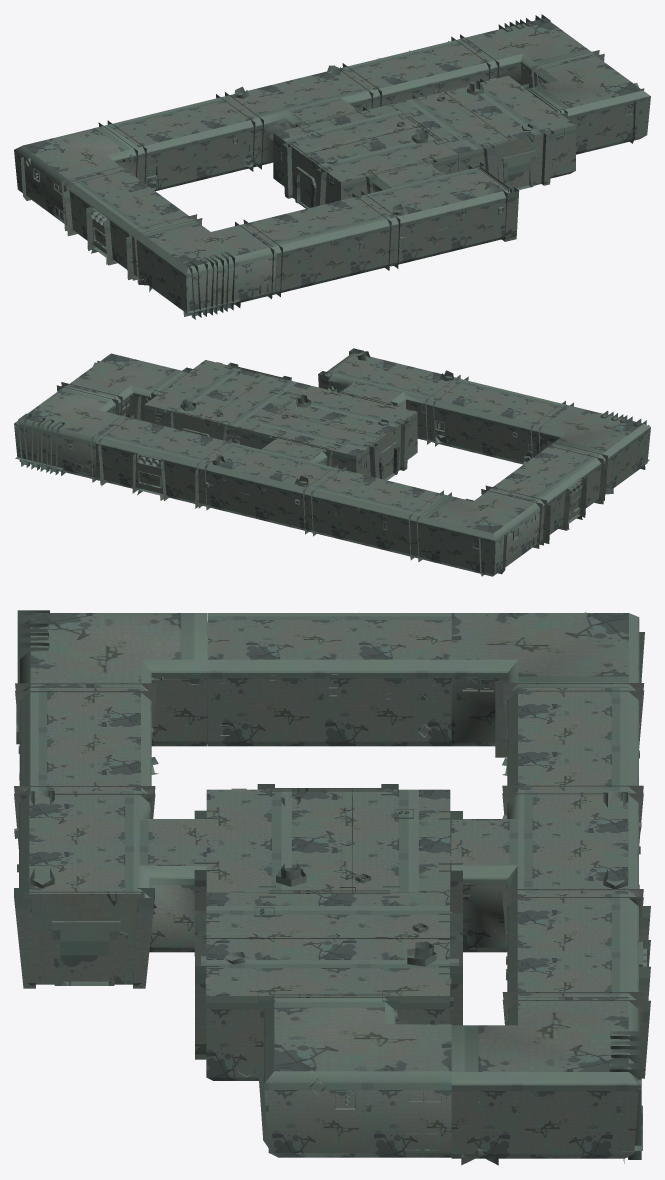
Rendered from Combined_Mesh_root_scene__5_130fafea__zombies2_diffuse_08_b0bdab26_c1f257.obj.
3 renders of one model, top to bottom at view 1: azimuth 30°, elevation 25°; view 2: azimuth 150°, elevation 25°; view 3: azimuth 270°, elevation 25°, orthographic. The views are drawn at different scales.
Size of the model in its own units: 92.31 by 9.64 by 52.29.
179 materials, 179 textured.
